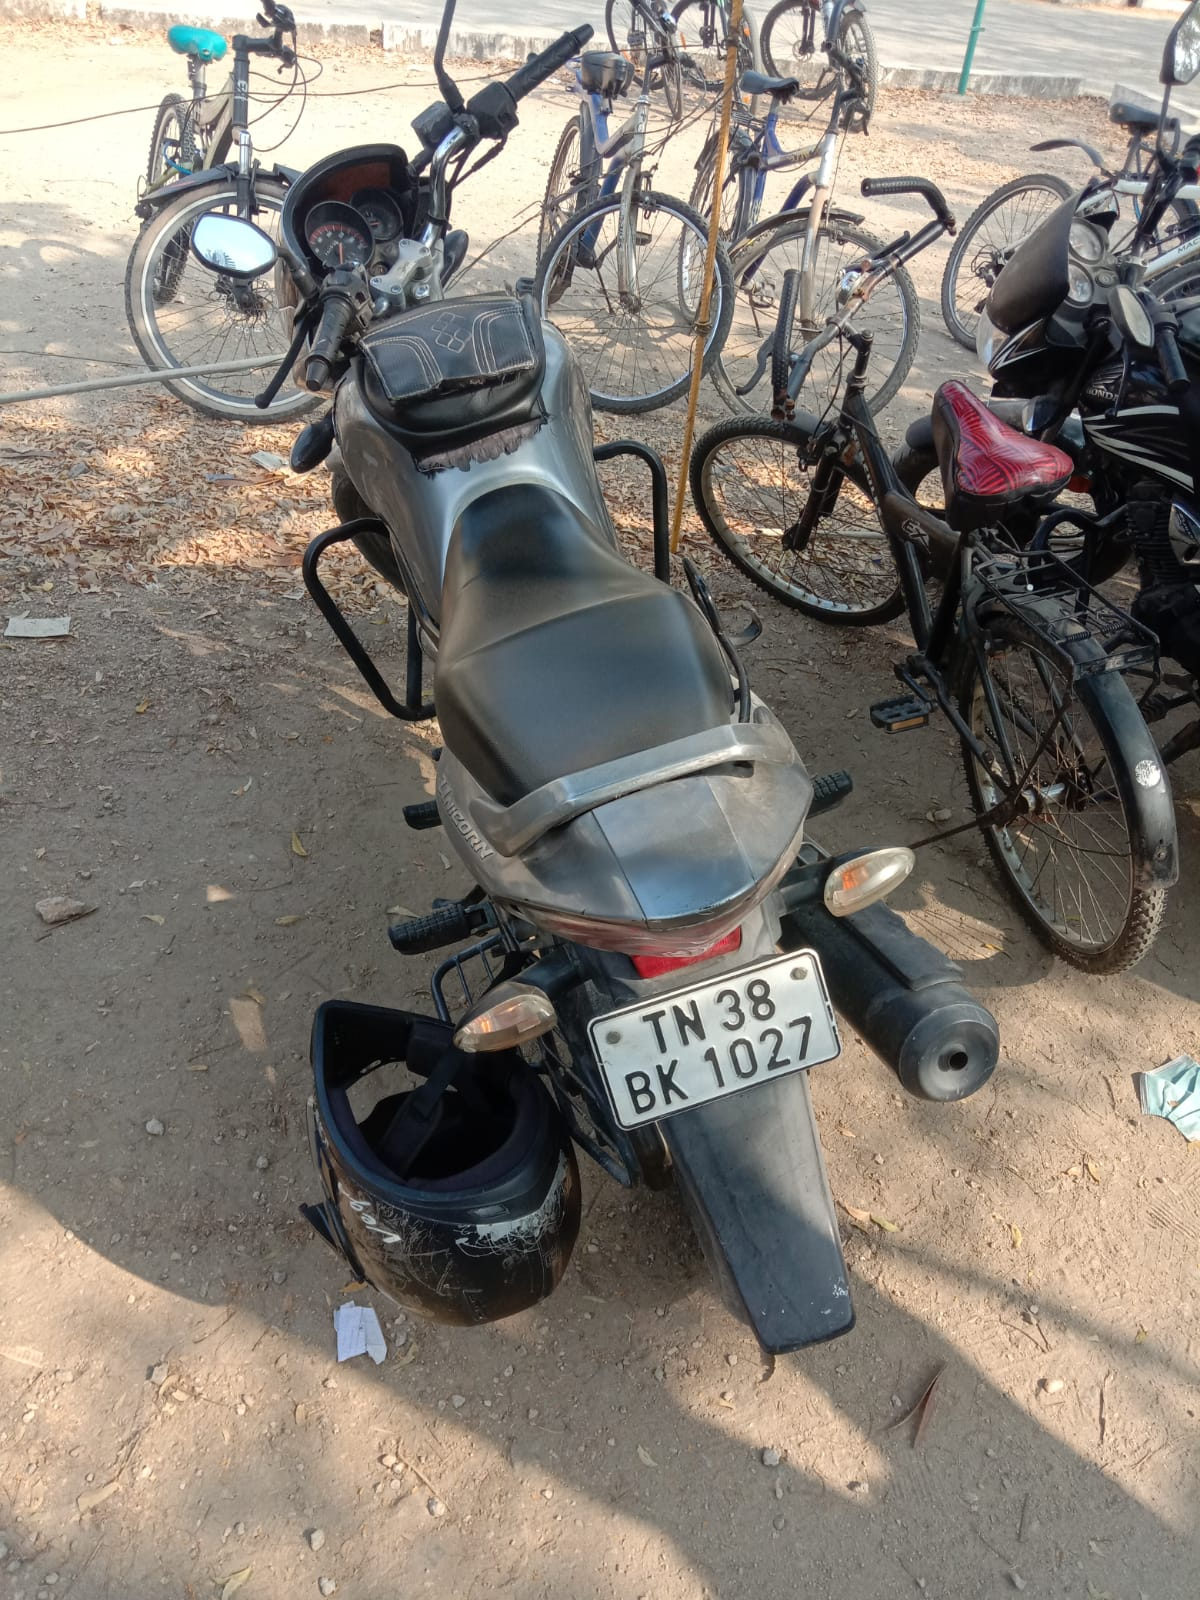bike: (265, 177, 1021, 1417)
numberplate: (563, 944, 878, 1151)
